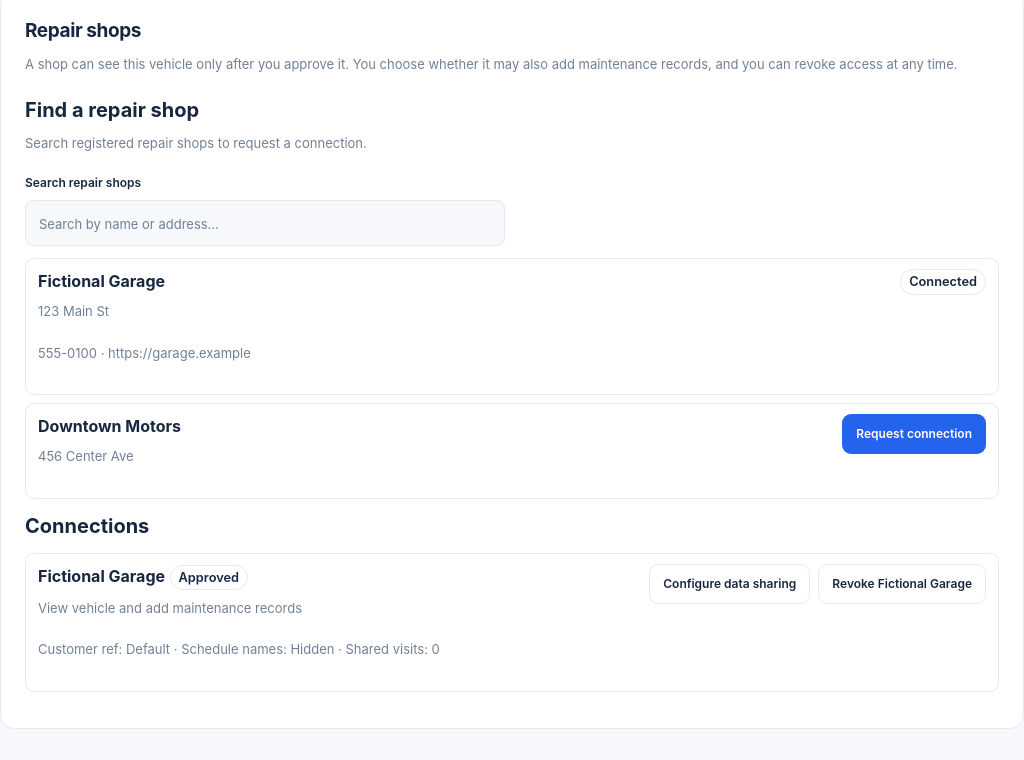
it: shows approved permissions and revokes after confirmation
This screenshot has width=1024, height=760.
Expected: the text "Approved" is shown, [170,565,248,590]
Expected: the text "View vehicle and add maintenance records" is shown, [38,600,302,616]
Click the button "Revoke Fictional Garage": click(902, 584) [818,564,986,604]
(page scrolled)
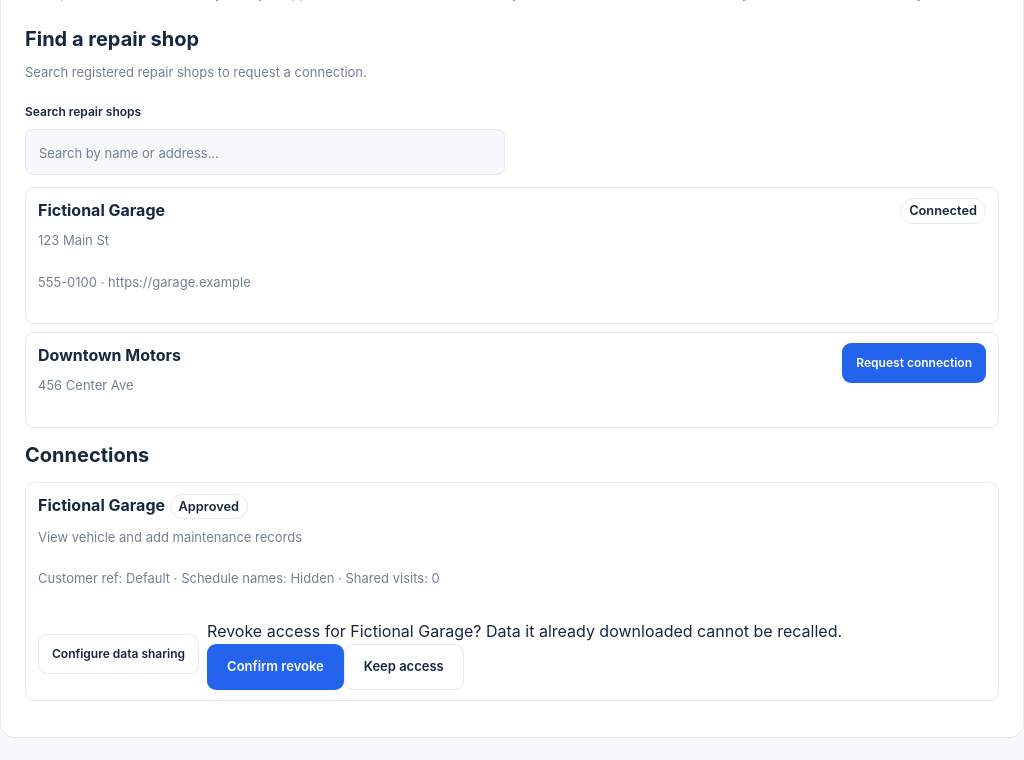
Click the button "Confirm revoke": click(275, 667) [207,644,344,690]
(page scrolled)
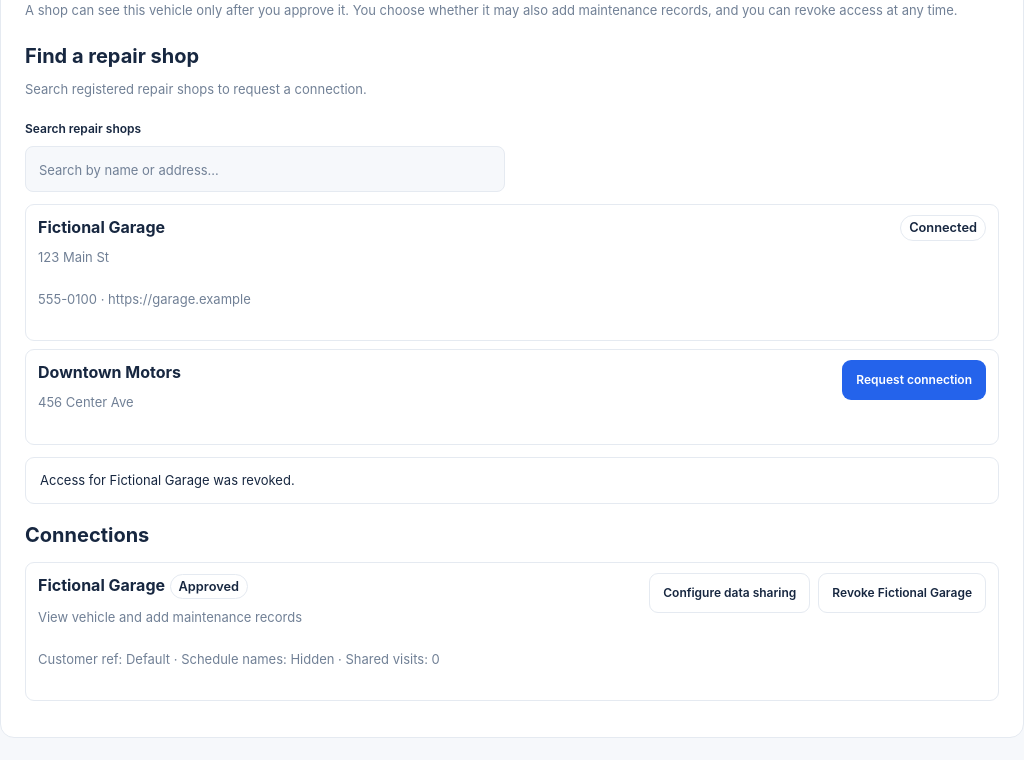
Now the text "Access for Fictional Garage was revoked." is shown, box [25,457,999,504]
